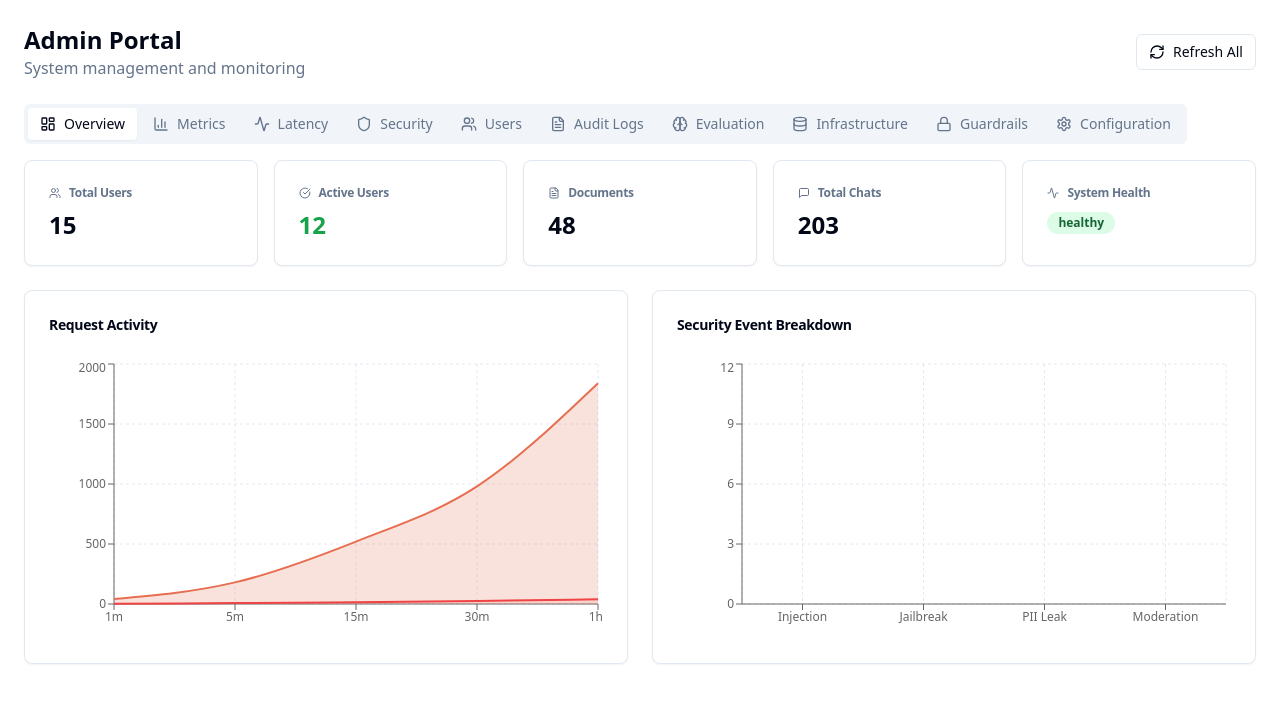
Test: AdminPage › security tab renders
This screenshot has width=1280, height=720.
Check: the heading "Total Users" is shown, box [49,184,132,201]
What coordinates should you click on to do the following:
click the tab "Security"
I would click on:
 (394, 124)
Its box is [344,108,445,140].
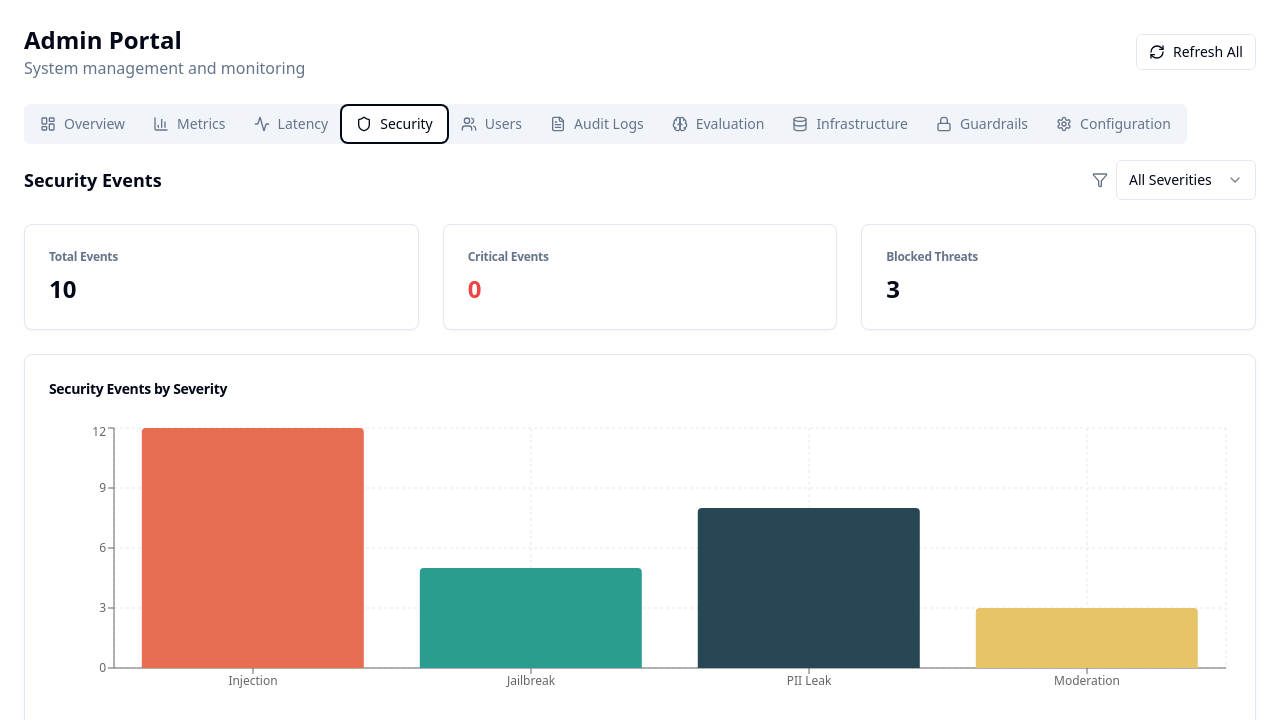
Check: the heading "Security Events by Severity" is shown, box [49,379,227,398]
Check: the heading "Total Events" is shown, box [49,248,118,265]
